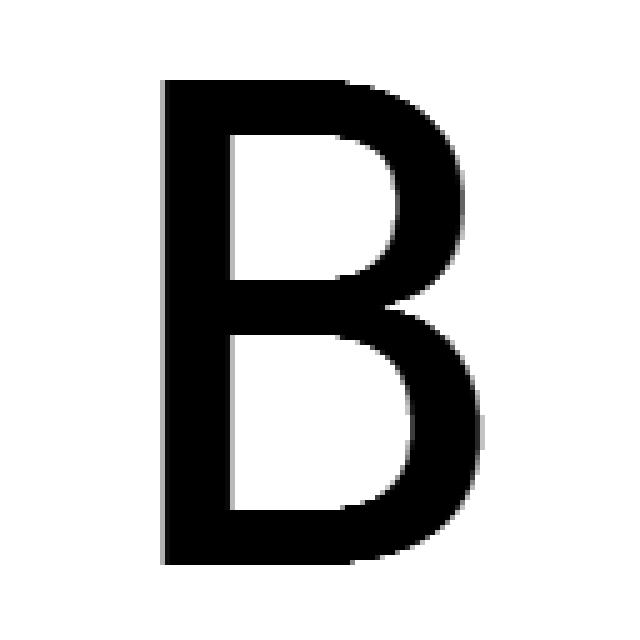B: (160, 80, 485, 570)
